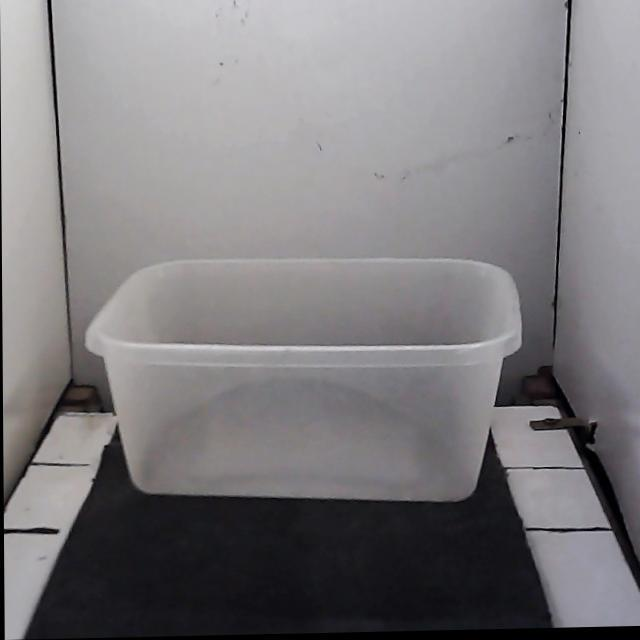plastico: (86, 259, 521, 501)
